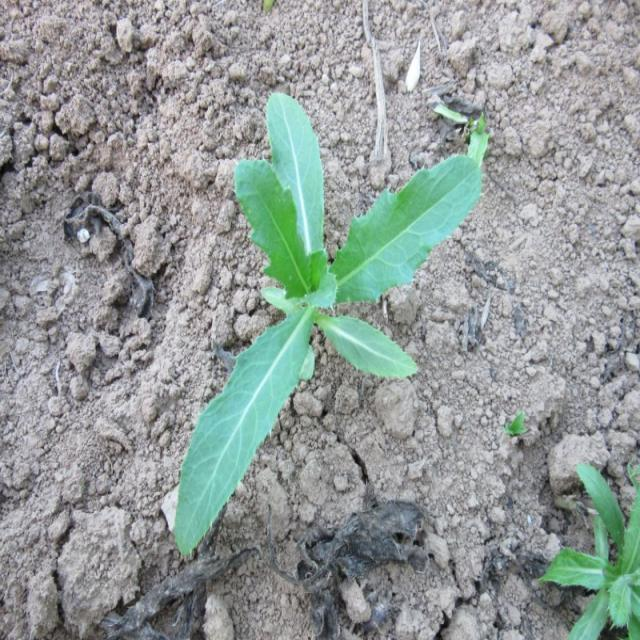cs: (174, 87, 482, 557)
